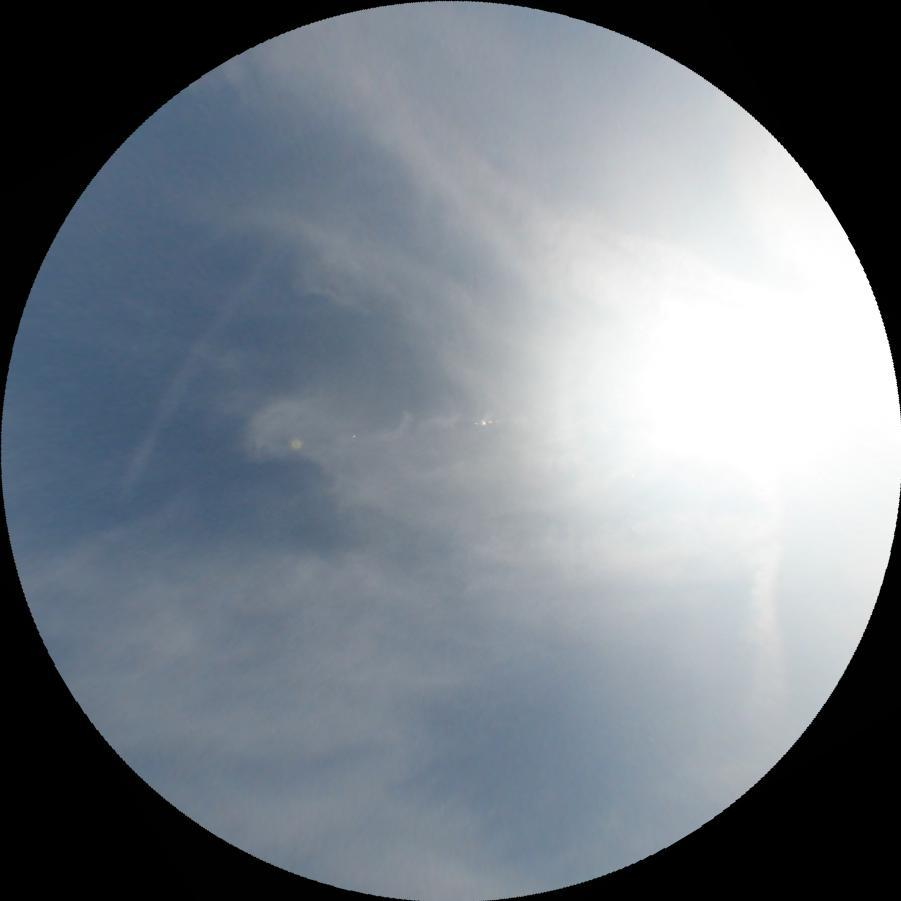contrail veryold: (106, 240, 282, 499), (745, 507, 798, 766)
sun: (608, 256, 851, 491)
